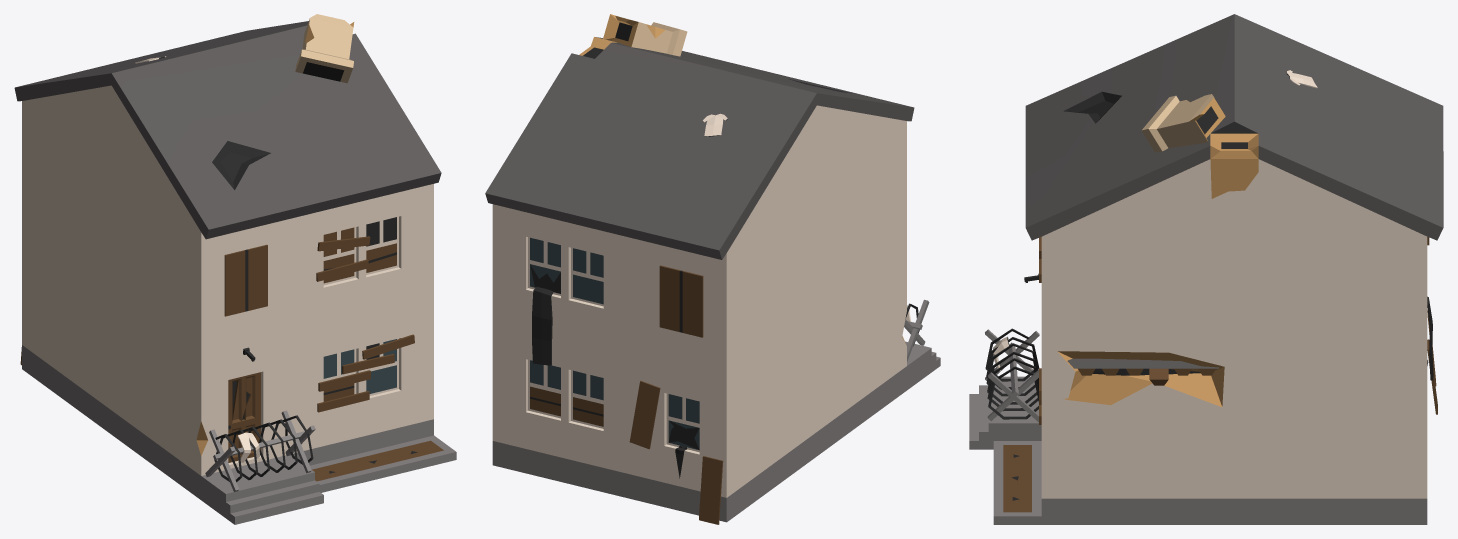
Rendered from apocalypse_building-house-block-apocalypse.fbx.
The picture shows the model from 3 angles, left to right: view 1: azimuth 30°, elevation 25°; view 2: azimuth 150°, elevation 25°; view 3: azimuth 270°, elevation 25°; orthographic projection. The views are drawn at different scales.
Parts seen in each view (by area): view 1: building_house_block_apocalypse_building_house_block_apocaly (×2); view 2: building_house_block_apocalypse_building_house_block_apocaly (×2); view 3: building_house_block_apocalypse_building_house_block_apocaly (×2).
Boxes of the visible parts, <box> form: building_house_block_apocalypse_building_house_block_apocaly (×2): <box>14,14,456,524</box>; building_house_block_apocalypse_building_house_block_apocaly (×2): <box>485,14,940,524</box>; building_house_block_apocalypse_building_house_block_apocaly (×2): <box>969,14,1443,524</box>.
Size of the model in its own units: 126 by 190 by 200.
